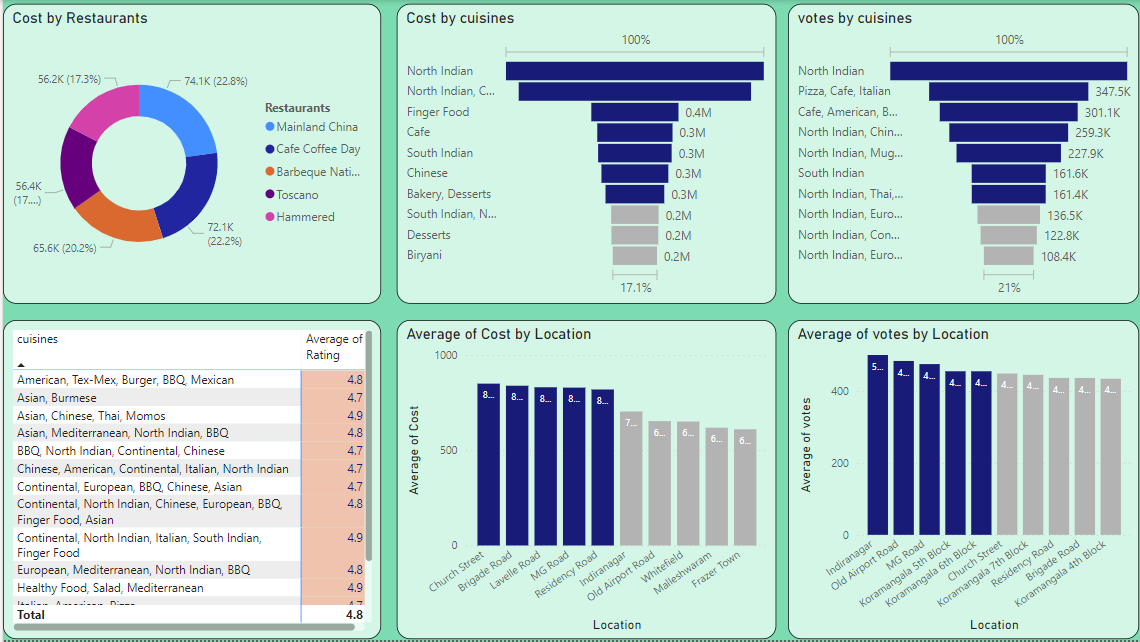

This screenshot's page, from the dashboard's own definition file:
{"tool":"powerbi","page":{"name":"Page 3","canvas":[1280,720],"ordinal":2},"visuals":[{"type":"pivotTable","fields":{"Rows":["Sheet1.cuisines"],"Values":["Avg(Sheet1.Rating)"]},"box":[0,360.6,425.7,359.4],"z":0},{"type":"funnel","fields":{"Y":["Sum(Sheet1.Cost)"],"Category":["Sheet1.cuisines"]},"box":[443.8,4.8,426.9,337.7],"z":1000},{"type":"funnel","fields":{"Y":["Sum(Sheet1.votes)"],"Category":["Sheet1.cuisines"]},"box":[884,4.8,395.6,337.7],"z":2000},{"type":"columnChart","fields":{"Category":["Sheet1.Location"],"Y":["Avg(Sheet1.Cost)"]},"box":[443.8,360.6,426.9,359.4],"z":3000},{"type":"columnChart","fields":{"Category":["Sheet1.Location"],"Y":["Avg(Sheet1.votes)"]},"box":[884,360.6,395.6,359.4],"z":4000},{"type":"donutChart","fields":{"Y":["Sum(Sheet1.Cost)"],"Category":["Sheet1.Restaurants"]},"box":[0,4.8,425.7,337.7],"z":5000}]}

Visuals, with their boxes in screenshot pixels (x1, y1, x2, y2), scaled from the page's 1280x720 canvas onto the 1140x642 screenshot:
pivotTable - Sheet1.cuisines x Avg(Sheet1.Rating): [x1=0, y1=322, x2=379, y2=641]
funnel - Sum(Sheet1.Cost) x Sheet1.cuisines: [x1=395, y1=4, x2=775, y2=305]
funnel - Sum(Sheet1.votes) x Sheet1.cuisines: [x1=787, y1=4, x2=1139, y2=305]
columnChart - Sheet1.Location x Avg(Sheet1.Cost): [x1=395, y1=322, x2=775, y2=641]
columnChart - Sheet1.Location x Avg(Sheet1.votes): [x1=787, y1=322, x2=1139, y2=641]
donutChart - Sum(Sheet1.Cost) x Sheet1.Restaurants: [x1=0, y1=4, x2=379, y2=305]
